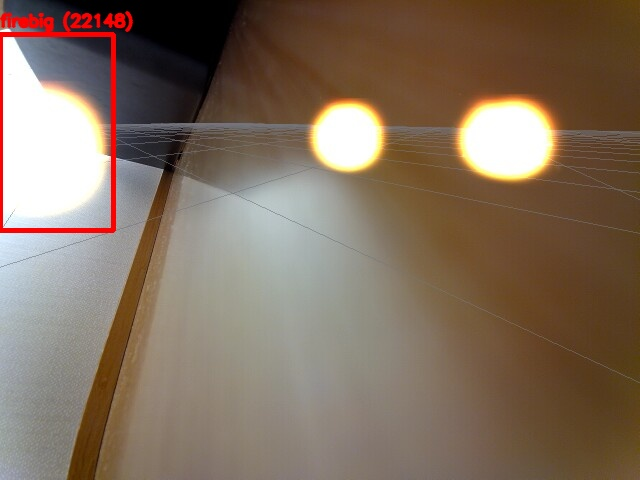firebig: (0, 34, 113, 230)
